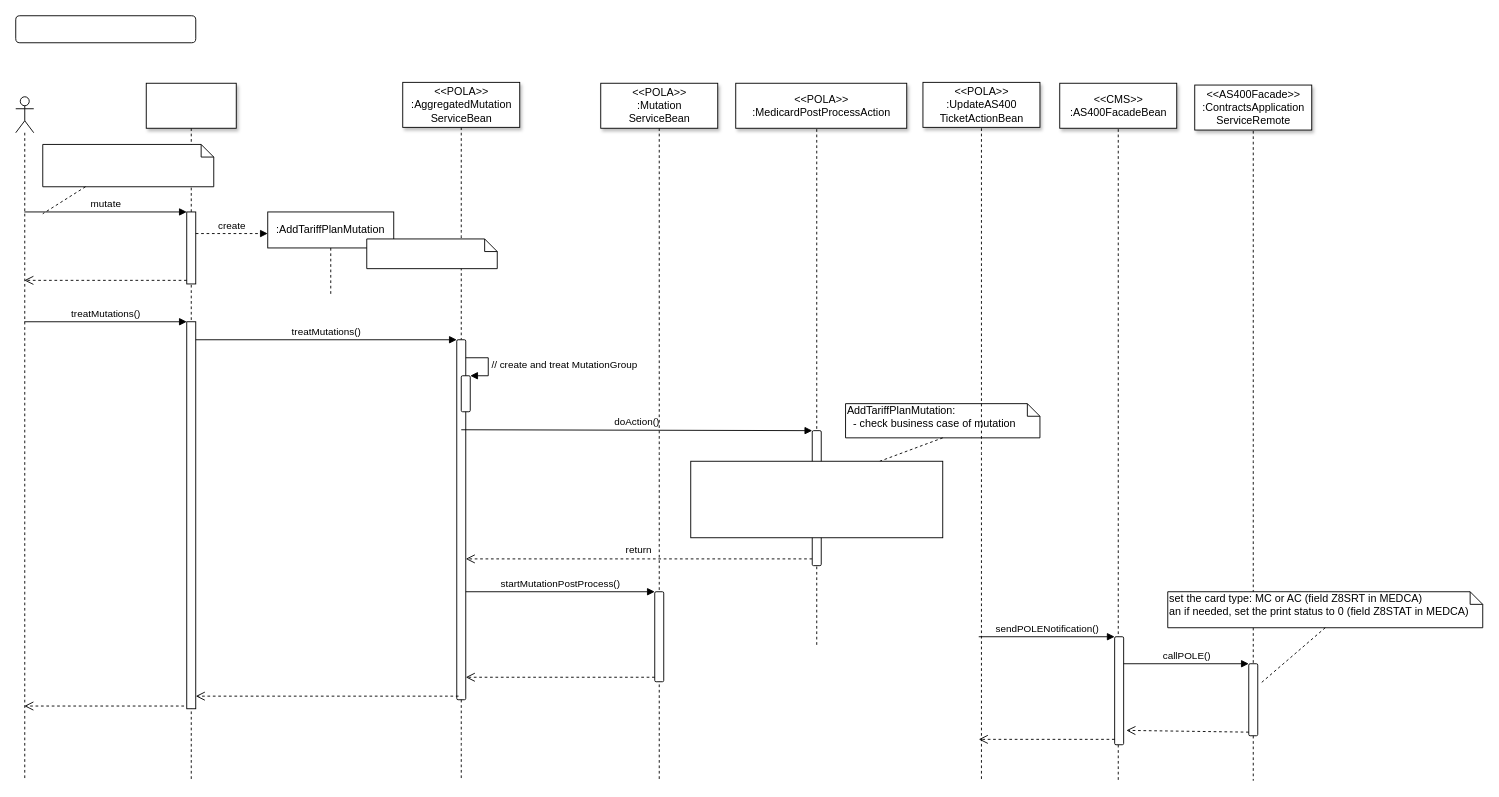
Image size: 1499x797. Some labels were removed from this diagram. Here are the shapes that lost their labels. From the top down, the centre of each, then its label:
the point at 105,29: sd Attribute & Process Medicard
the point at 192,107: <<POLA>> : MutationWS
the point at 128,165: the officer adds a tariff plan, selects a medicard and clicks "save"
the point at 431,253: TBD: add MedicardCommand ?
the point at 816,499: Medicard Post Process
